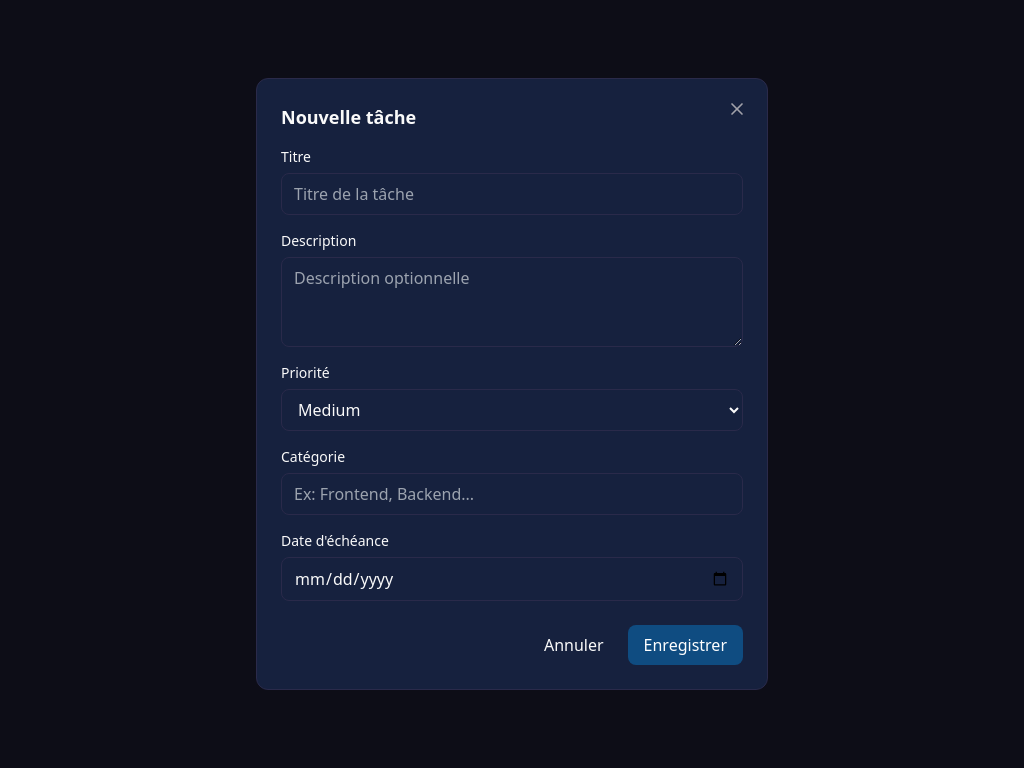
Test case: TaskFormDialog — Création de tâche › affiche une erreur serveur si POST échoue
Type "Test" into the field labelled "Titre".
click(512, 194); type("Test")  # box x1=281 y1=173 x2=743 y2=215
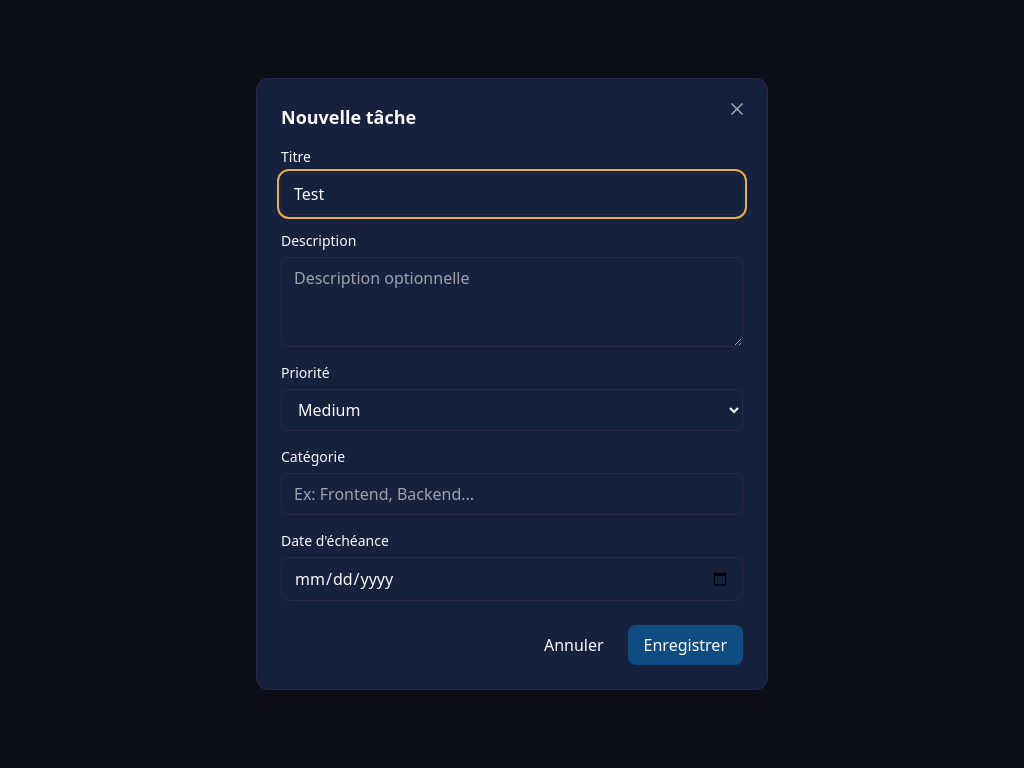
Click the button "Enregistrer".
click(685, 645)  # box x1=628 y1=625 x2=743 y2=665
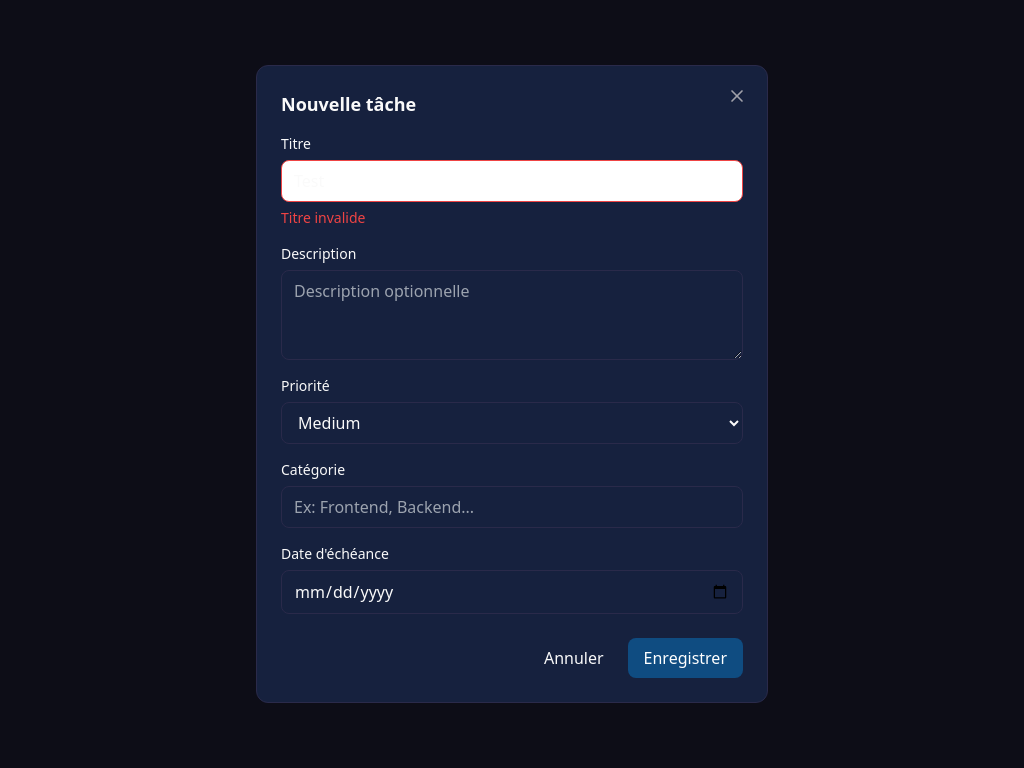
Result: the message "Titre invalide" is shown at x1=281 y1=208 x2=366 y2=227
